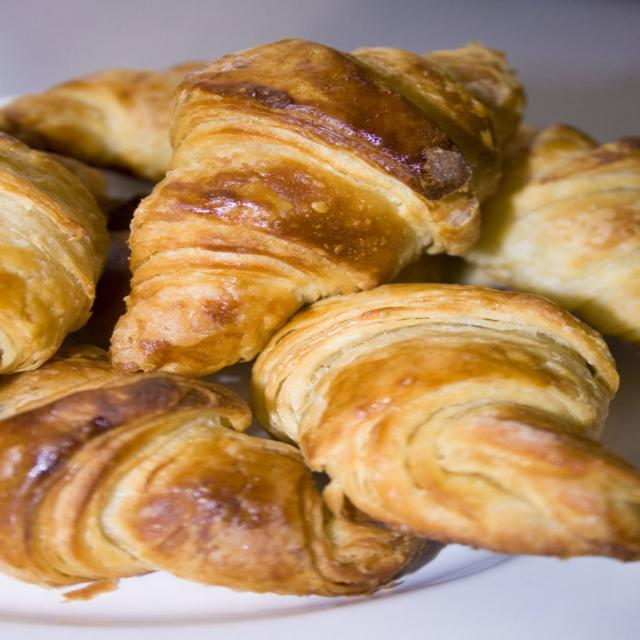Croissant: (0, 34, 526, 382), (0, 341, 427, 600), (243, 282, 628, 560), (450, 121, 640, 345), (0, 127, 110, 379), (0, 60, 197, 182)
